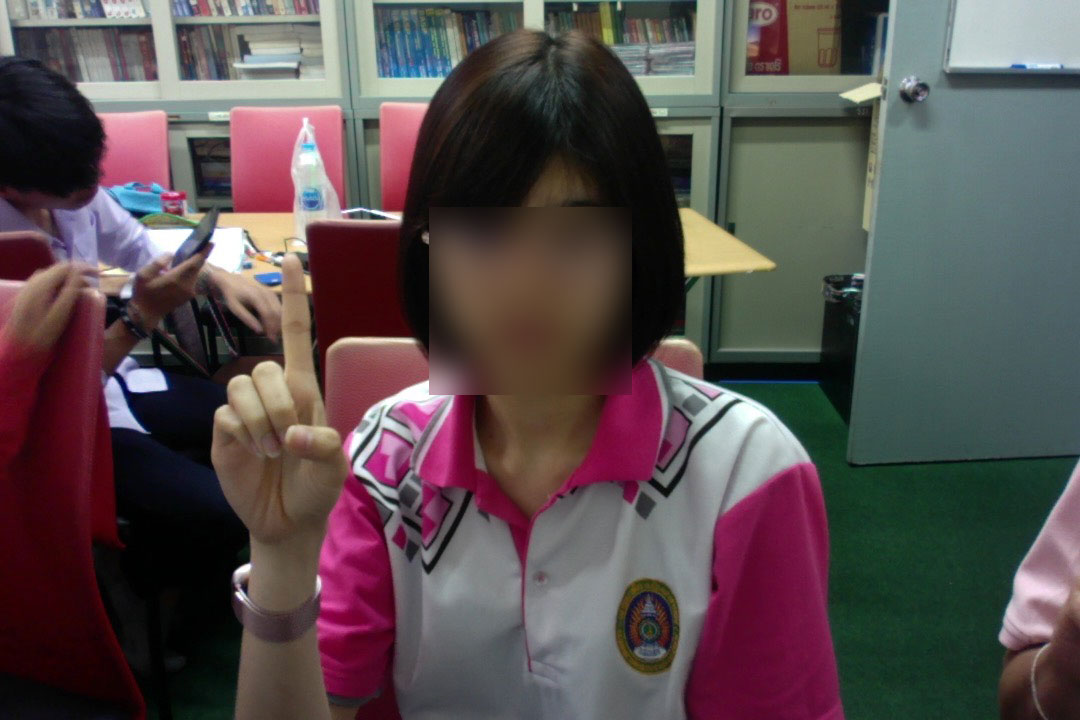dor: (204, 237, 357, 561)
